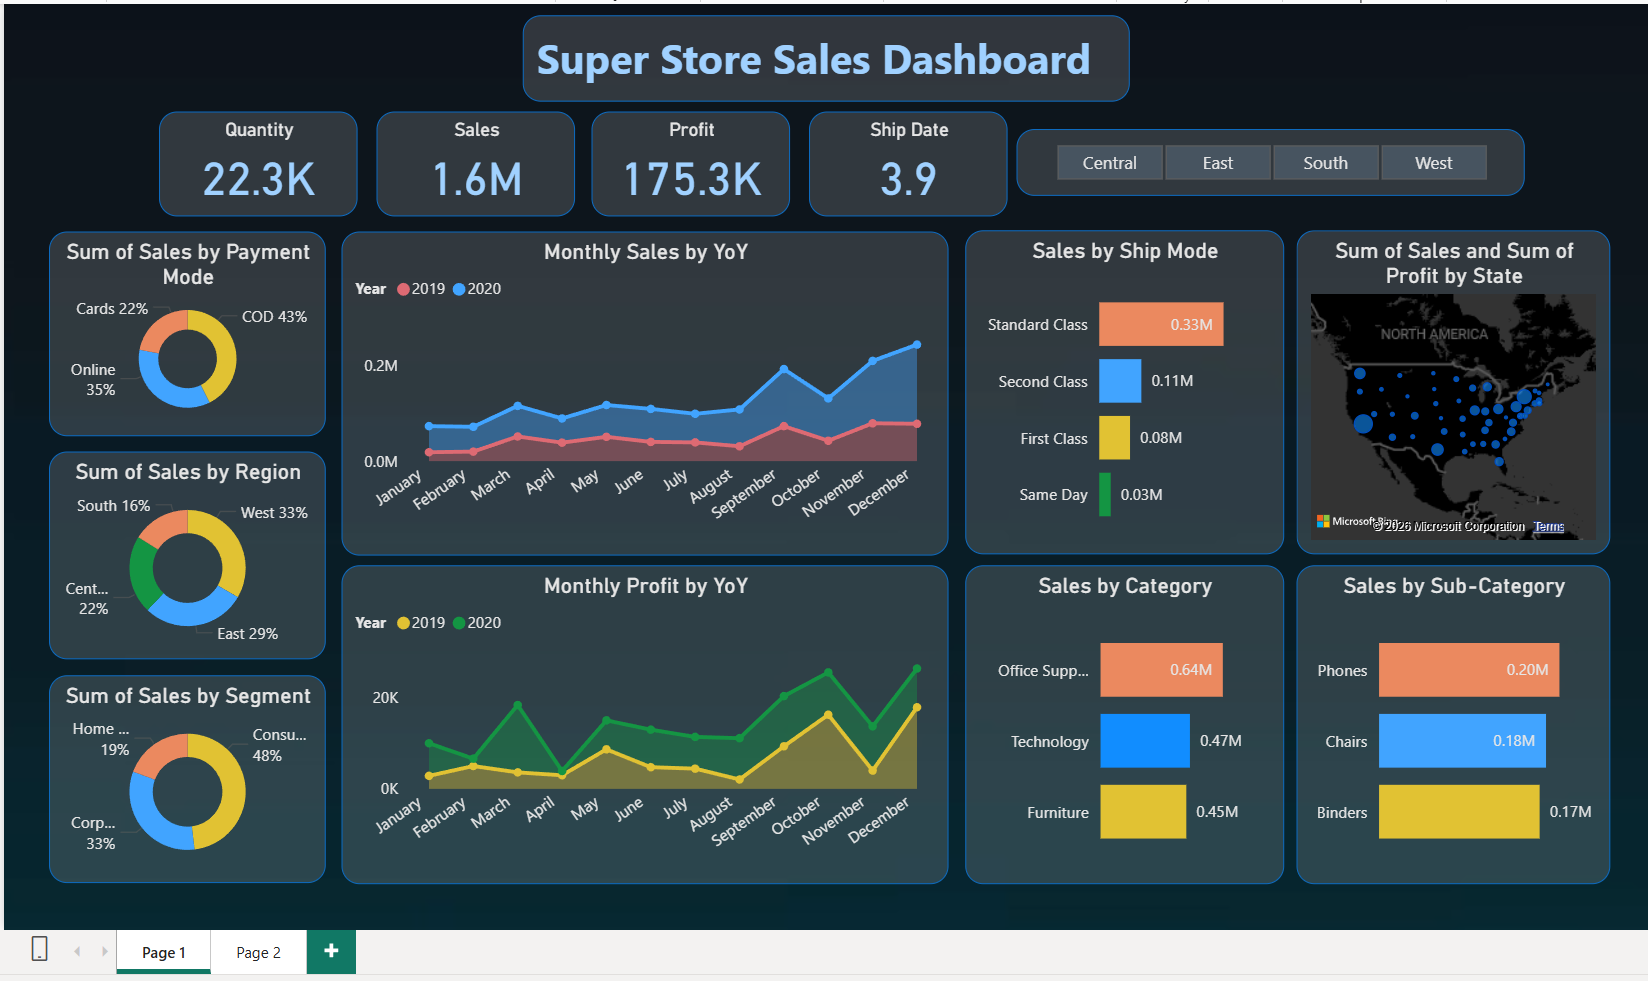

What the dashboard file says about the page in this screenshot:
{"tool":"powerbi","page":{"name":"Page 1","canvas":[1280,720],"ordinal":0},"visuals":[{"type":"clusteredBarChart","title":"Sales by Category","fields":{"Category":["SuperStore_Sales_Dataset.Category"],"Y":["Sum(SuperStore_Sales_Dataset.Sales)"]},"box":[747.7,436,247.7,247.7],"z":0},{"type":"clusteredBarChart","title":"Sales by Sub-Category","fields":{"Y":["Sum(SuperStore_Sales_Dataset.Sales)"],"Category":["SuperStore_Sales_Dataset.Sub-Category"]},"box":[1004.7,436,244.2,247.7],"z":1000},{"type":"clusteredBarChart","title":"Sales by Ship Mode","fields":{"Y":["Sum(SuperStore_Sales_Dataset.Sales)"],"Category":["SuperStore_Sales_Dataset.Ship Mode"]},"box":[747.7,175.6,247.7,252.3],"z":2000},{"type":"stackedAreaChart","title":"Monthly Sales by YoY","fields":{"Y":["Sum(SuperStore_Sales_Dataset.Sales)"],"Category":["SuperStore_Sales_Dataset.Order Date.Variation.Date Hierarchy.Month","SuperStore_Sales_Dataset.Order Date.Variation.Date Hierarchy.Day"],"Series":["SuperStore_Sales_Dataset.Order Date.Variation.Date Hierarchy.Year"]},"box":[262.8,176.7,472.1,252.3],"z":3000},{"type":"stackedAreaChart","title":"Monthly Profit by YoY","fields":{"Category":["SuperStore_Sales_Dataset.Order Date.Variation.Date Hierarchy.Month","SuperStore_Sales_Dataset.Order Date.Variation.Date Hierarchy.Day"],"Series":["SuperStore_Sales_Dataset.Order Date.Variation.Date Hierarchy.Year"],"Y":["Sum(SuperStore_Sales_Dataset.Profit)"]},"box":[262.8,436,472.1,247.7],"z":4000},{"type":"map","fields":{"Category":["SuperStore_Sales_Dataset.State"],"Size":["Sum(SuperStore_Sales_Dataset.Sales)"]},"box":[1004.7,175.6,244.2,252.3],"z":5000},{"type":"donutChart","fields":{"Category":["SuperStore_Sales_Dataset.Segment"],"Y":["Sum(SuperStore_Sales_Dataset.Sales)"]},"box":[34.9,522.1,215.1,161.6],"z":6000},{"type":"donutChart","fields":{"Y":["Sum(SuperStore_Sales_Dataset.Sales)"],"Category":["SuperStore_Sales_Dataset.Payment Mode"]},"box":[34.9,176.7,215.1,159.3],"z":7000},{"type":"donutChart","fields":{"Y":["Sum(SuperStore_Sales_Dataset.Sales)"],"Category":["SuperStore_Sales_Dataset.Region"]},"box":[34.9,347.7,215.1,161.6],"z":8000},{"type":"slicer","fields":{"Values":["SuperStore_Sales_Dataset.Region"]},"box":[787.2,97.7,395.3,52.3],"z":9000},{"type":"textbox","box":[403.3,8.7,472.4,67.1],"z":10000},{"type":"card","title":"Sales","fields":{"Values":["Sum(SuperStore_Sales_Dataset.Sales)"]},"box":[289.5,83.7,154.7,81.4],"z":11000},{"type":"card","title":"Quantity","fields":{"Values":["Sum(SuperStore_Sales_Dataset.Quantity)"]},"box":[120.9,83.7,154.7,81.4],"z":12000},{"type":"card","title":"Profit","fields":{"Values":["Sum(SuperStore_Sales_Dataset.Profit)"]},"box":[457,83.7,154.7,81.4],"z":13000},{"type":"card","title":"Ship Date","fields":{"Values":["Avg(SuperStore_Sales_Dataset.AvgDelivery)"]},"box":[625.6,83.7,154.7,81.4],"z":14000}]}

Visuals, with their boxes on the page's 1280x720 design canvas (x1, y1, x2, y2). These are canvas units, not pixel positions in the 1648x981 screenshot, which may show the page scaled, cropped or inside an application window:
"Sales by Category" clusteredBarChart: select_region(748, 436, 995, 684)
"Sales by Sub-Category" clusteredBarChart: select_region(1005, 436, 1249, 684)
"Sales by Ship Mode" clusteredBarChart: select_region(748, 176, 995, 428)
"Monthly Sales by YoY" stackedAreaChart: select_region(263, 177, 735, 429)
"Monthly Profit by YoY" stackedAreaChart: select_region(263, 436, 735, 684)
map - SuperStore_Sales_Dataset.State x Sum(SuperStore_Sales_Dataset.Sales): select_region(1005, 176, 1249, 428)
donutChart - SuperStore_Sales_Dataset.Segment x Sum(SuperStore_Sales_Dataset.Sales): select_region(35, 522, 250, 684)
donutChart - Sum(SuperStore_Sales_Dataset.Sales) x SuperStore_Sales_Dataset.Payment Mode: select_region(35, 177, 250, 336)
donutChart - Sum(SuperStore_Sales_Dataset.Sales) x SuperStore_Sales_Dataset.Region: select_region(35, 348, 250, 509)
slicer - SuperStore_Sales_Dataset.Region: select_region(787, 98, 1182, 150)
textbox: select_region(403, 9, 876, 76)
"Sales" card: select_region(290, 84, 444, 165)
"Quantity" card: select_region(121, 84, 276, 165)
"Profit" card: select_region(457, 84, 612, 165)
"Ship Date" card: select_region(626, 84, 780, 165)
